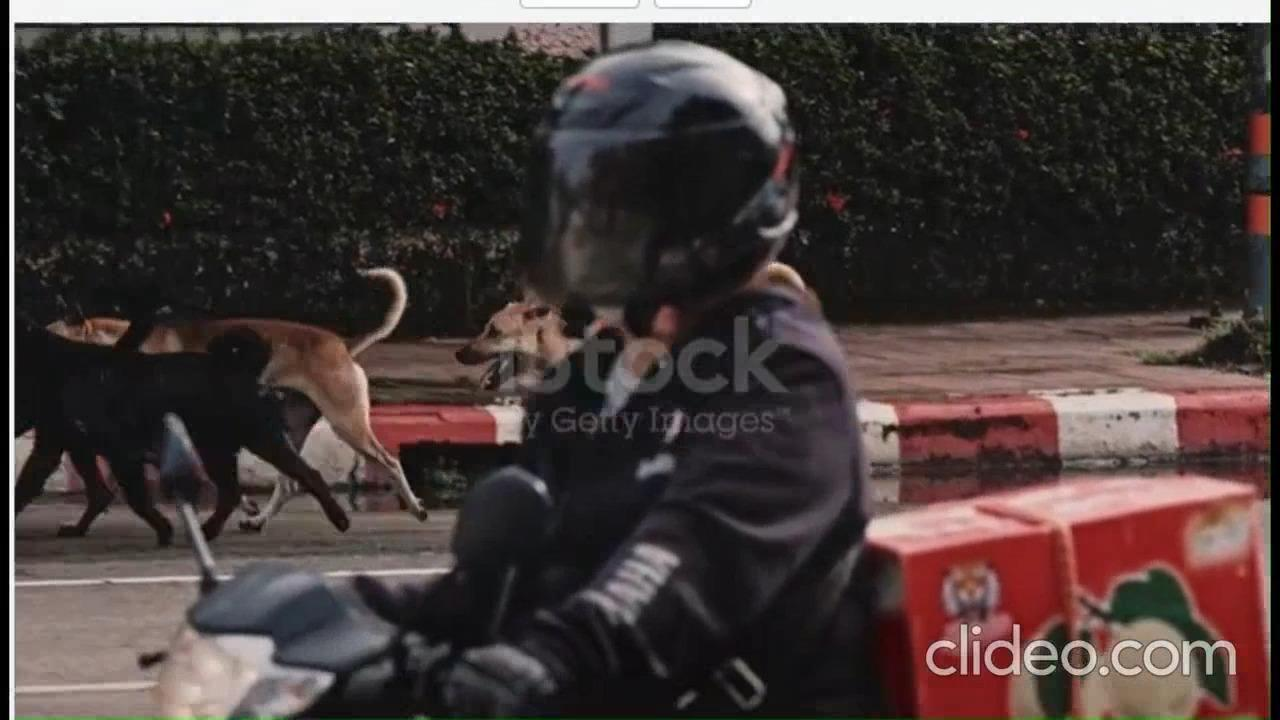dog: (51, 262, 427, 523), (19, 330, 354, 543), (470, 291, 575, 403)
